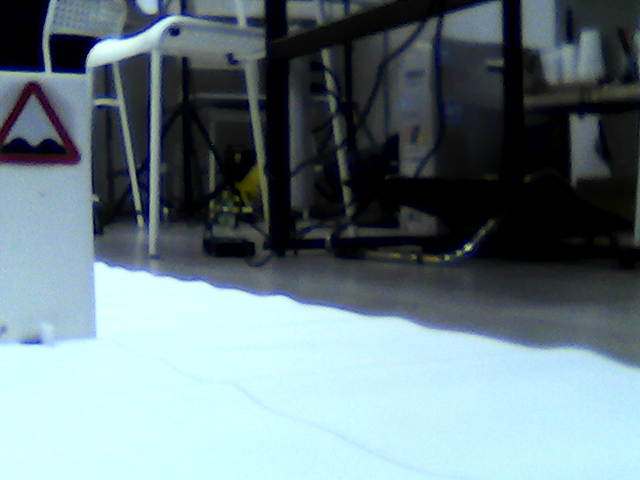Nerov: (5, 79, 82, 167)
